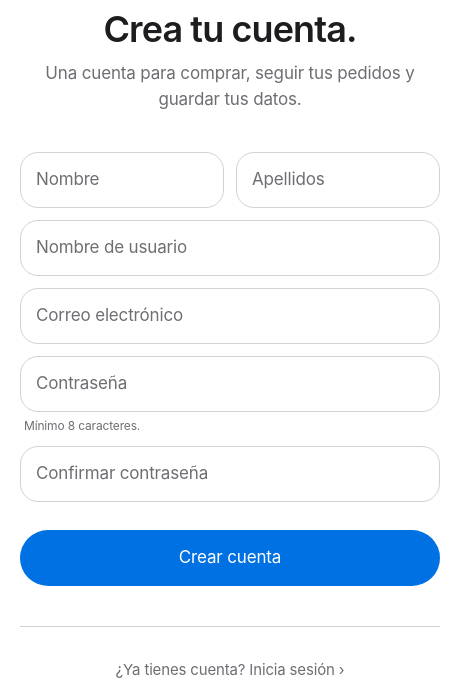
Test: RegisterForm — validaciones › rechaza contraseñas que no coinciden
In the field labelled "Nombre": (122, 180) [20,152,224,208], type "Alan"
In the field labelled "Apellidos": (338, 180) [236,152,440,208], type "Vasquez"
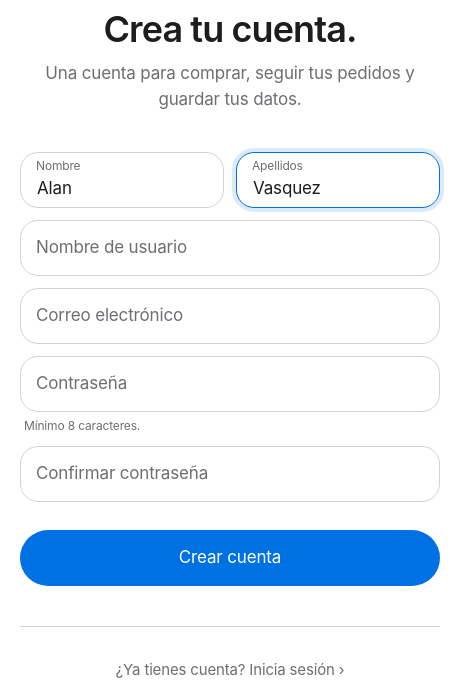
In the field labelled "Nombre de usuario": (230, 248) [20,220,440,276], type "alan"
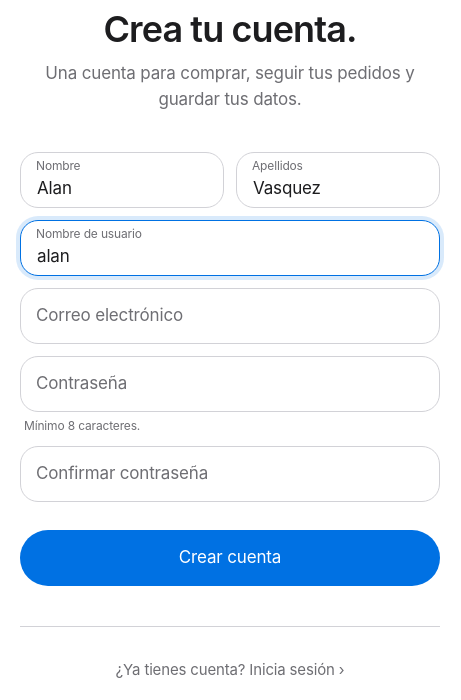
In the field labelled "Correo electrónico": (230, 316) [20,288,440,344], type "alan@example.com"
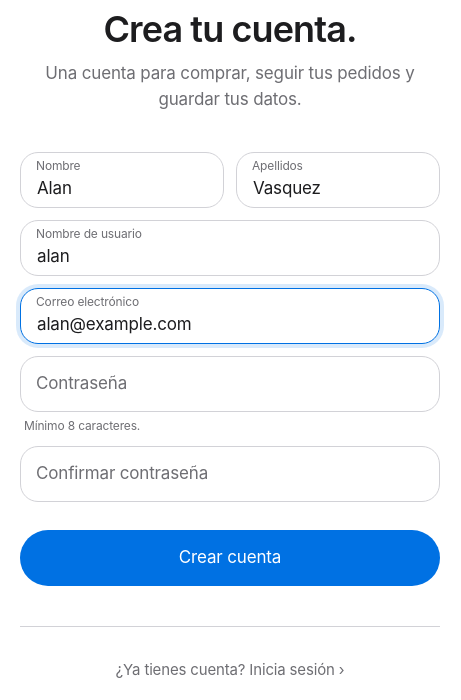
In the password field labelled "Contraseña": (230, 384) [20,356,440,412], type "MiPass123"
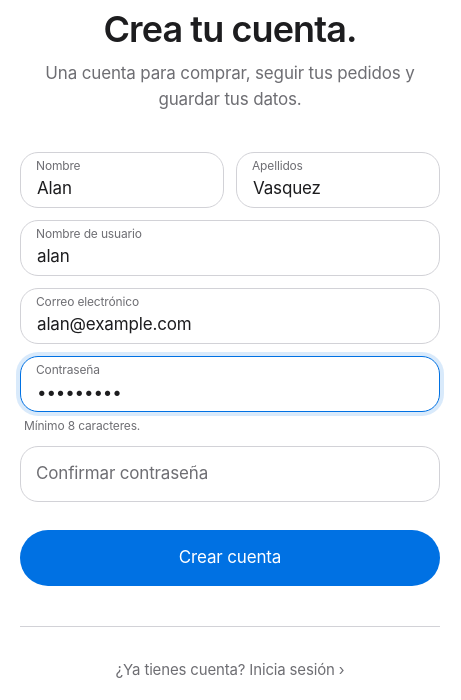
In the password field labelled "Confirmar contraseña": (230, 474) [20,446,440,502], type "OtraClave123"
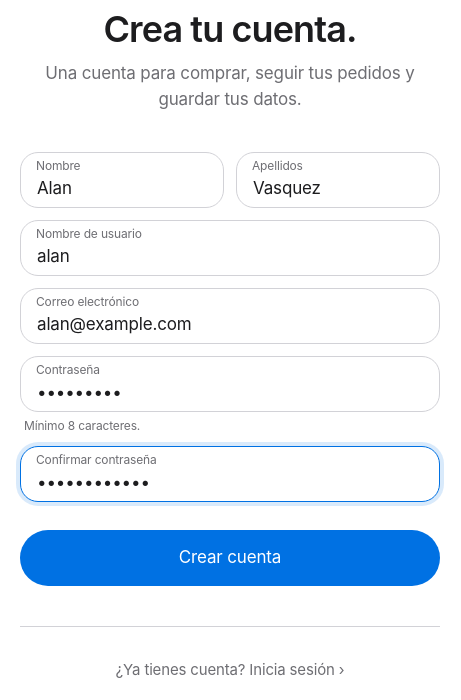
Click the button "Crear cuenta": (230, 558) [20,530,440,586]
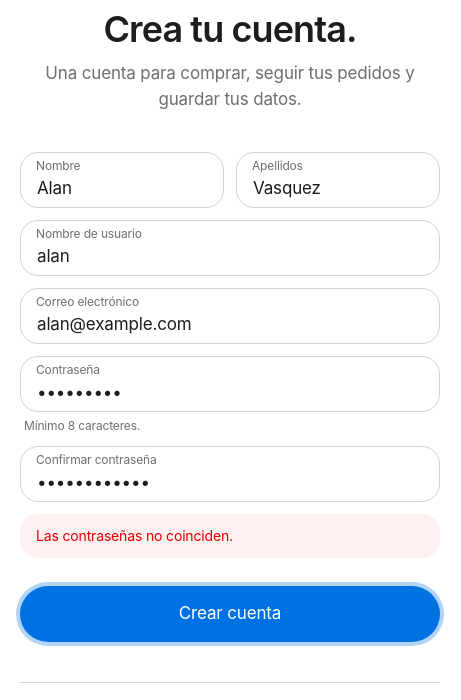
Check: the text "Las contraseñas no coinciden." is shown, box [20,514,440,558]
